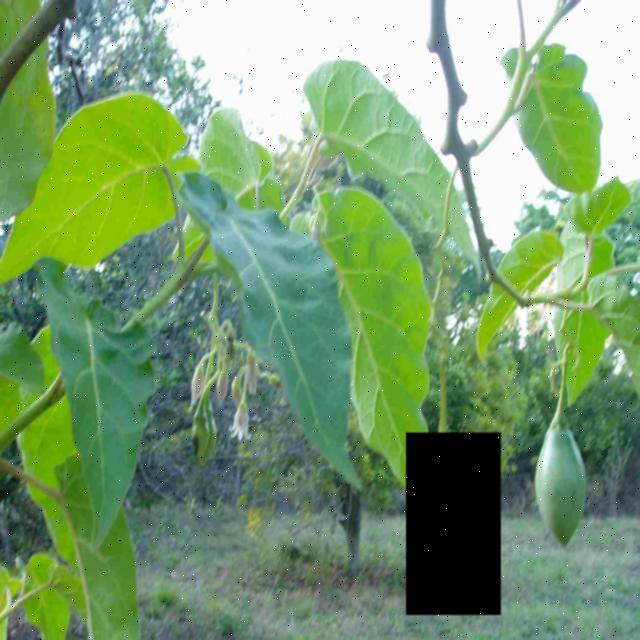Tree_Tomato: (406, 433, 502, 615)
